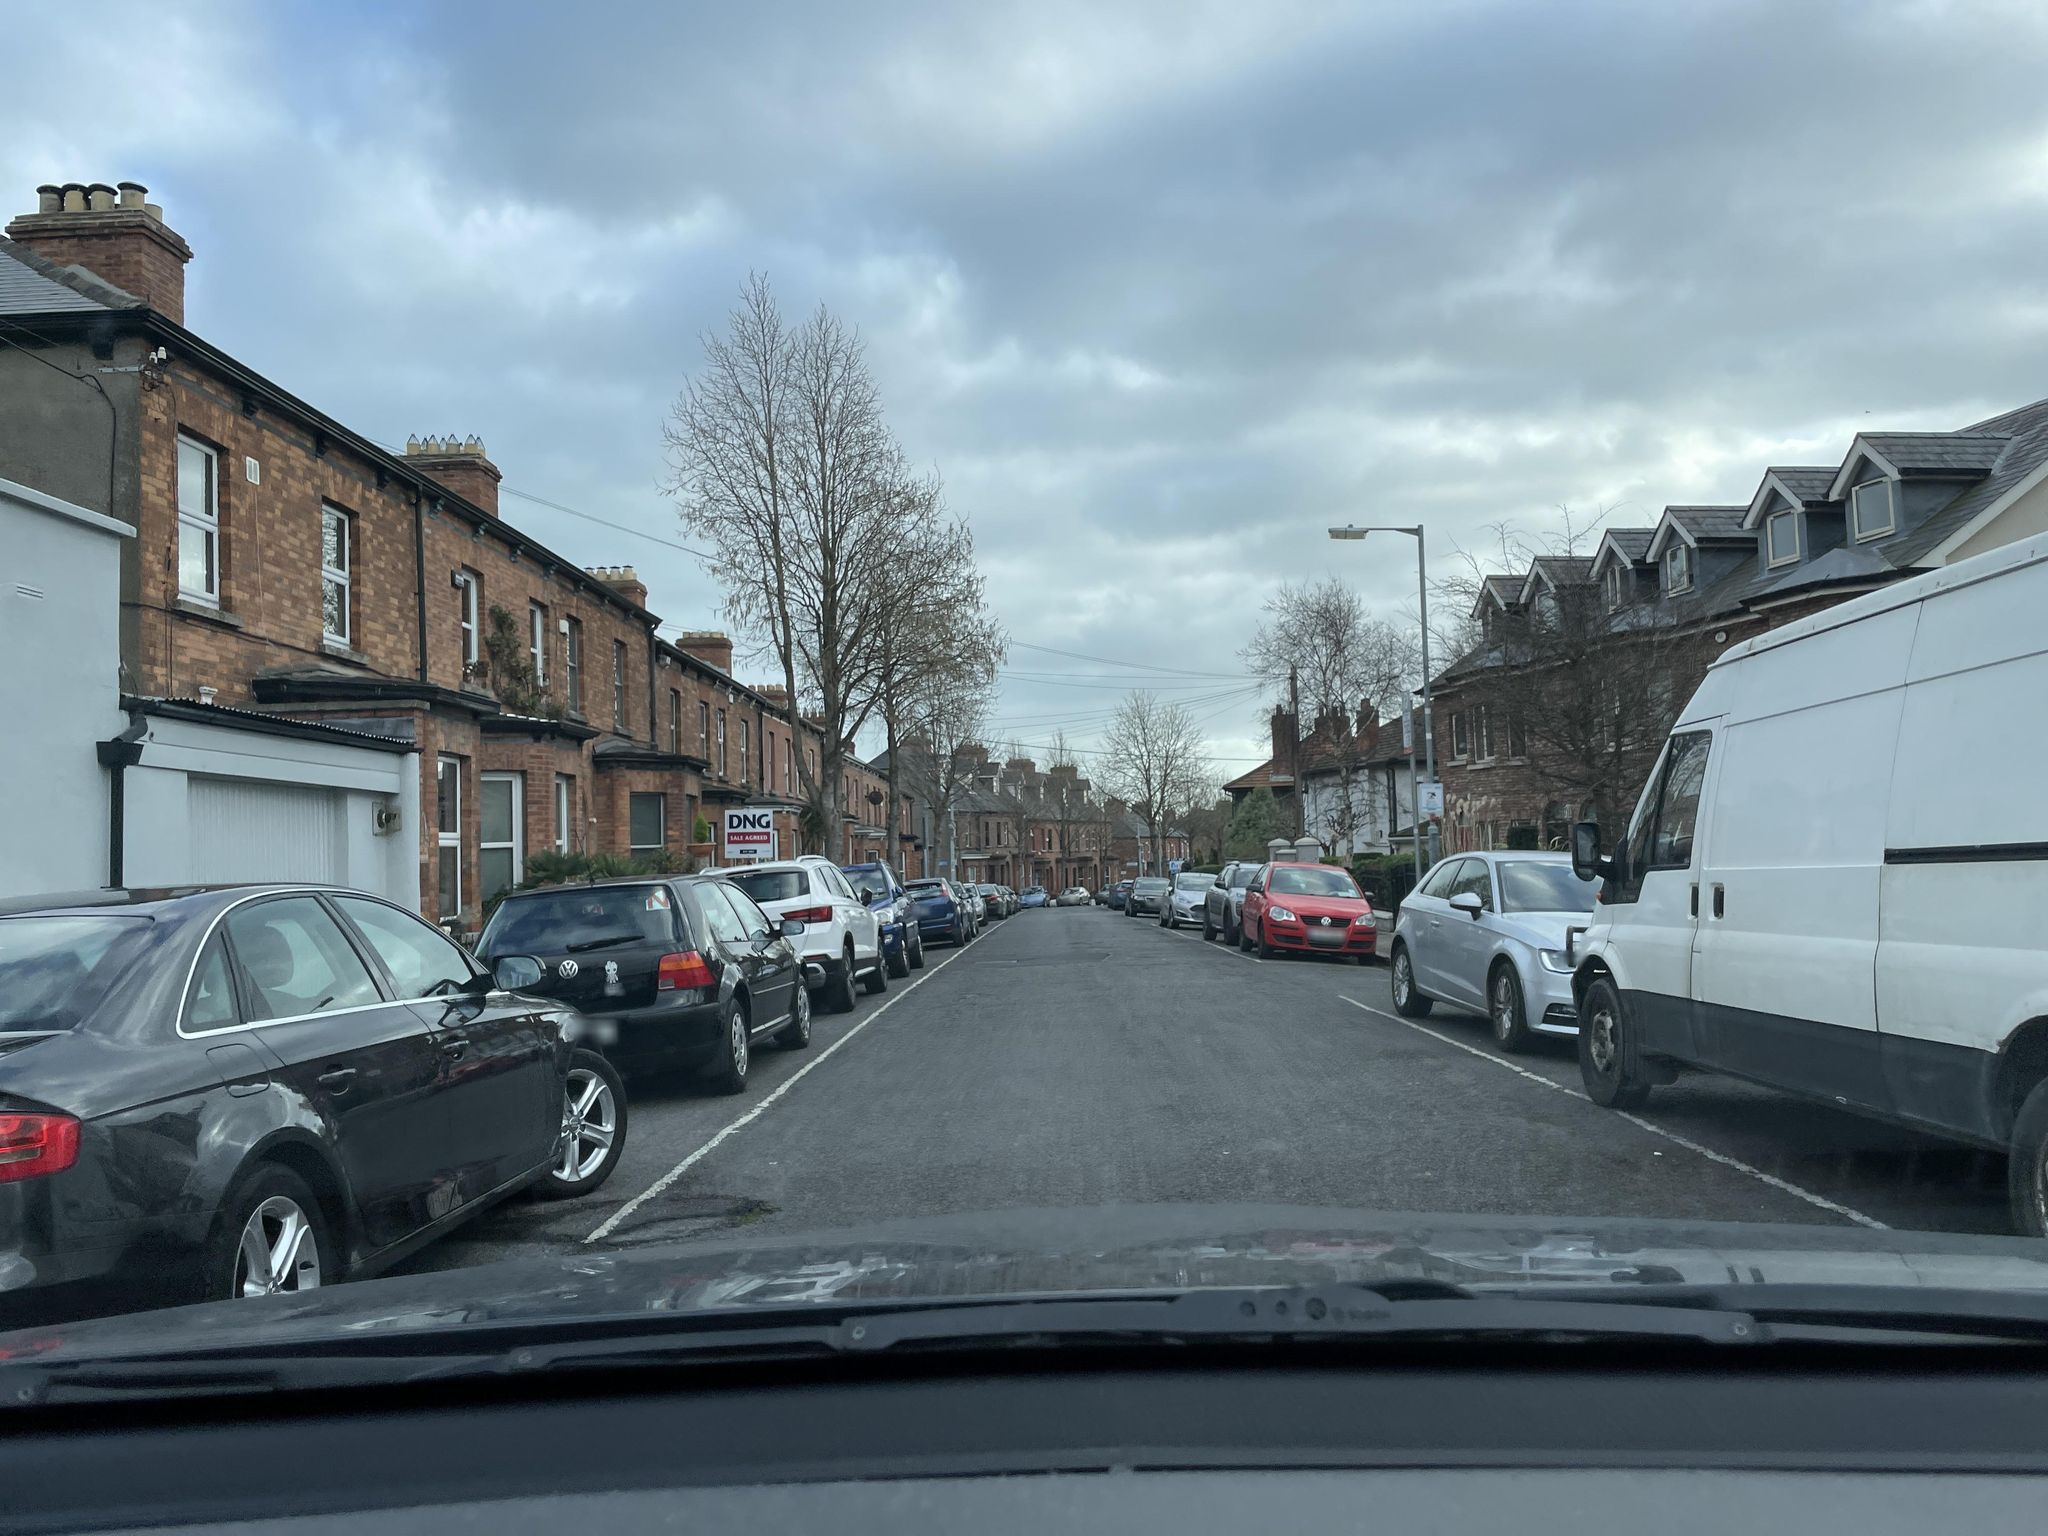property sign: (718, 792, 789, 865)
